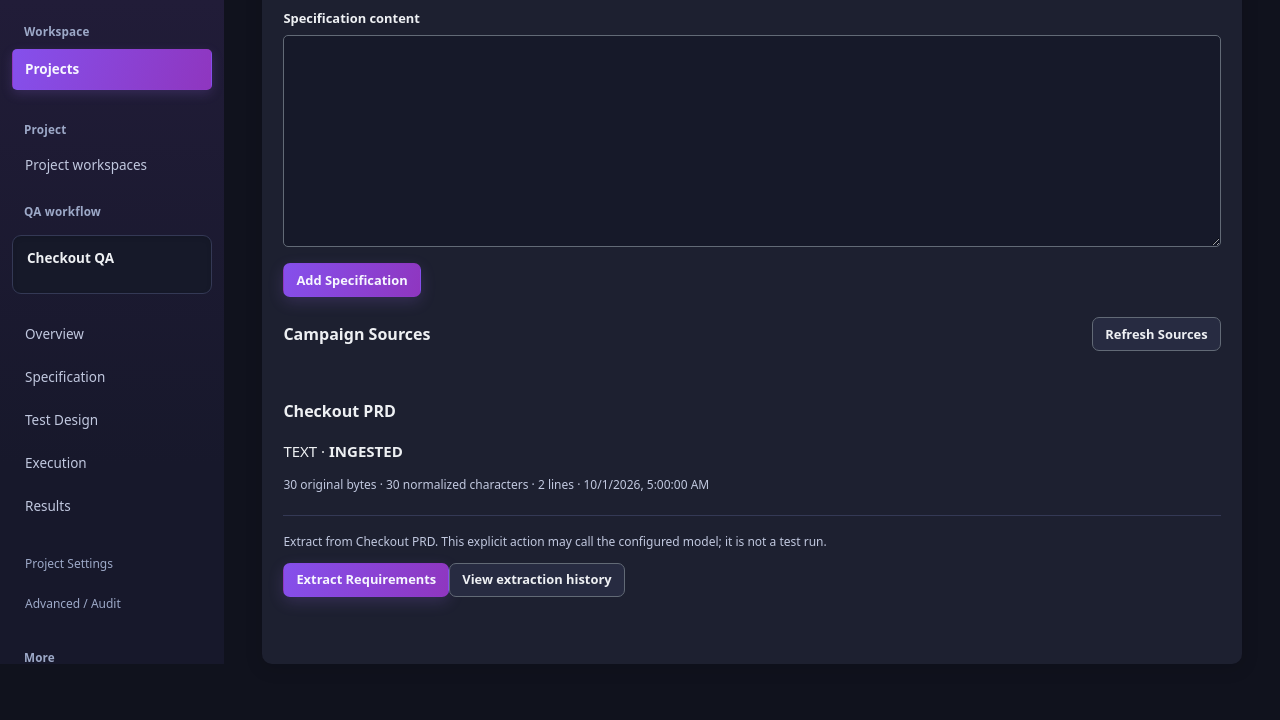
Test: source ingestion and explicit extraction › shows terminal FAILED attempt honestly without a success refresh or replay
The width and height of the screenshot is (1280, 720).
(page scrolled)
Click the button "Extract Requirements".
click(366, 580)  # box [283,563,449,597]
(page scrolled)
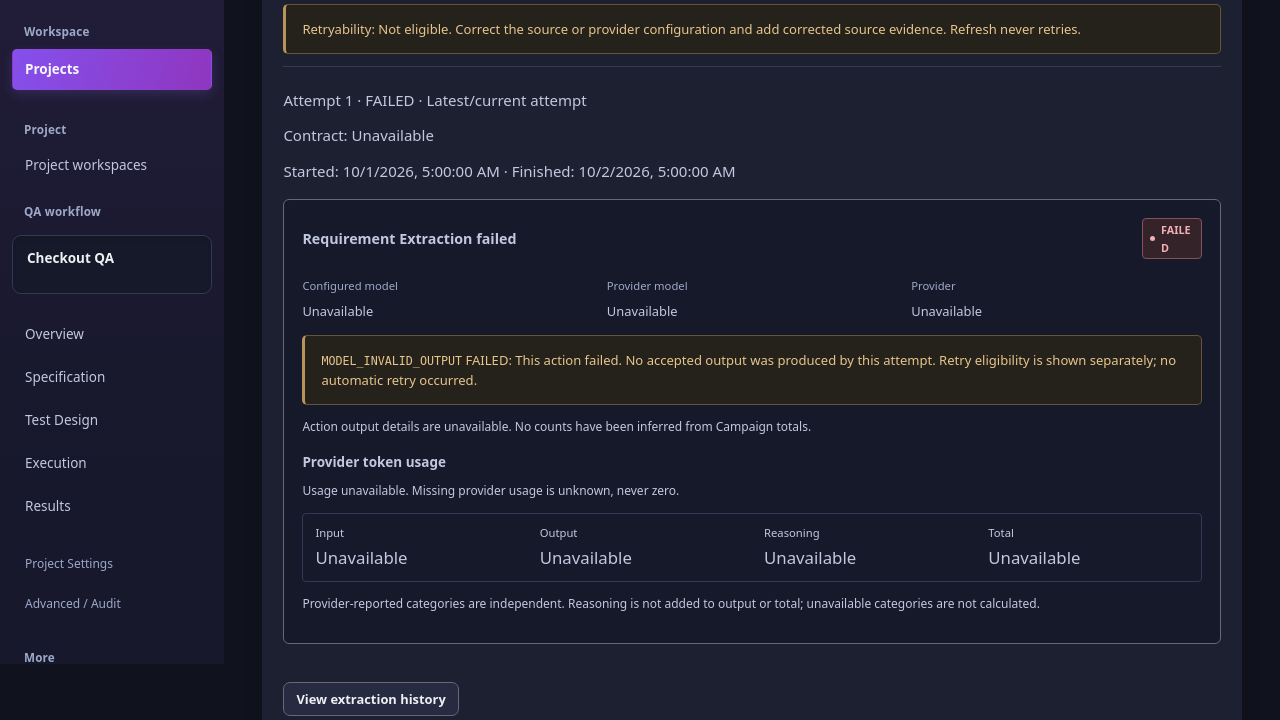
Check: the element named "Requirement Extraction result" shows "failed", box [476,228,516,248]
Check: the text "MODEL_INVALID_OUTPUT" is shown, box [321,354,462,368]
